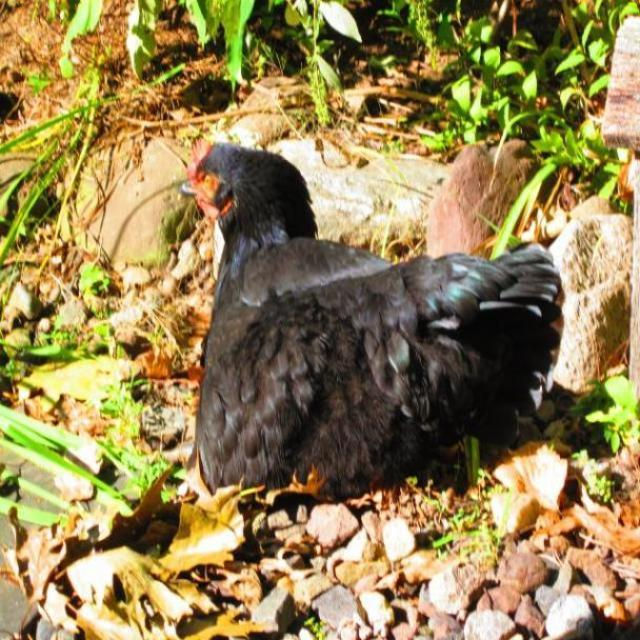Chicken: (172, 138, 559, 505)
